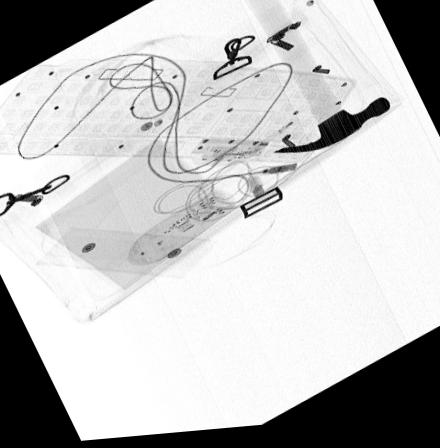Hammer: (243, 0, 391, 157)
